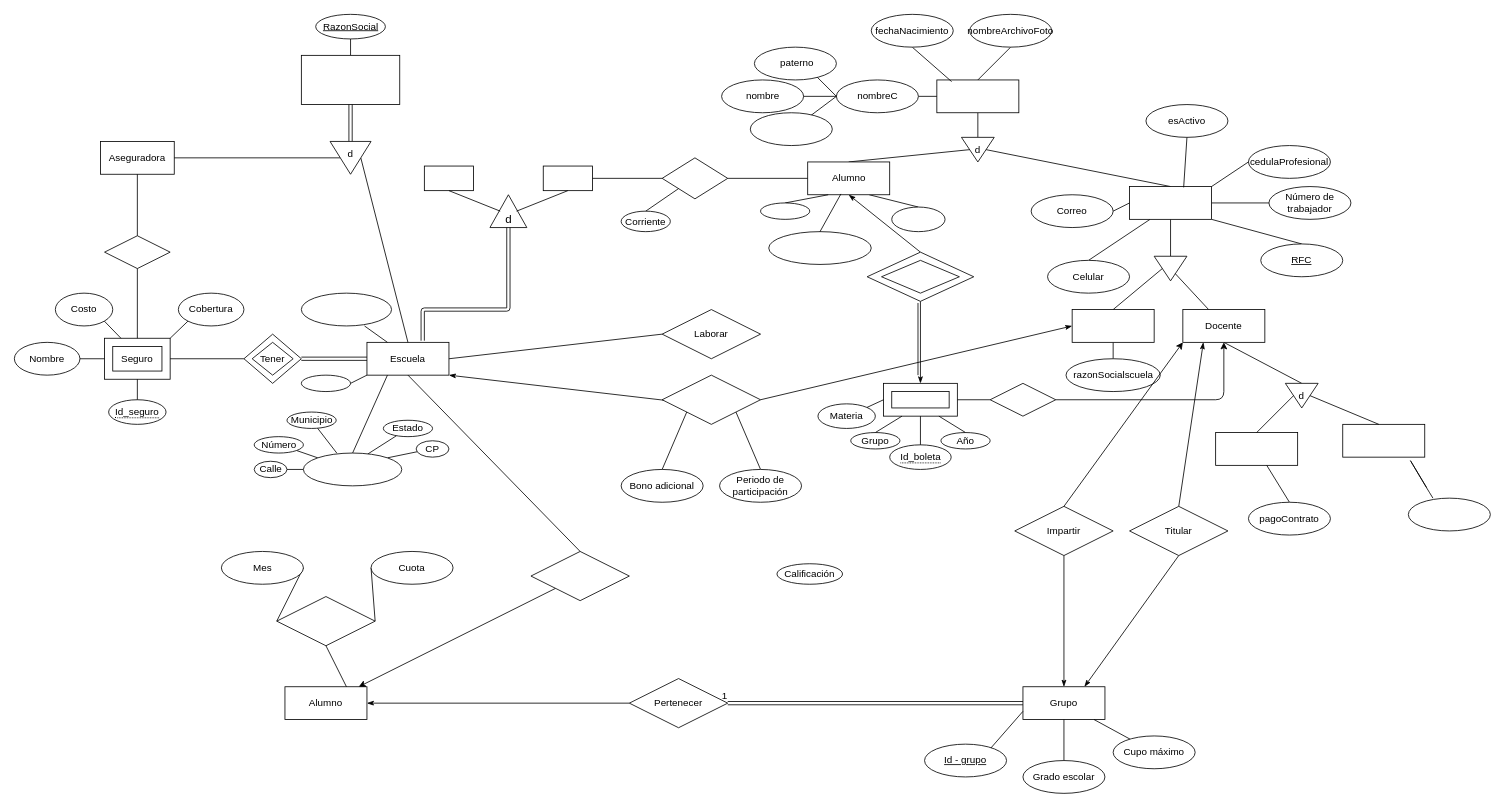
Image size: 1505x808. Some labels were removed from this diagram. The shapes that lost their labels are listed below. From the top down, each one's centre as x and y in pixels, then its label:
(x=350, y=80): Organización
(x=977, y=96): Persona
(x=790, y=129): materno
(x=449, y=178): Pública
(x=567, y=178): Privada
(x=694, y=178): Pagar
(x=785, y=210): CURP
(x=918, y=219): Promedio
(x=1170, y=202): Academico
(x=137, y=252): Proveer
(x=819, y=247): contactoEmergencia
(x=920, y=276): Tener_Bol
(x=346, y=309): TelefonoContacto
(x=1112, y=325): Director
(x=326, y=383): Nivel
(x=711, y=399): Dirigir
(x=920, y=399): Boletas
(x=1022, y=399): Calificar
(x=1256, y=448): Honorarios
(x=1383, y=440): Plaza
(x=352, y=469): direcciónCompleta
(x=1449, y=514): sueldoMensual
(x=579, y=576): Estudiar
(x=325, y=621): Cobrar
